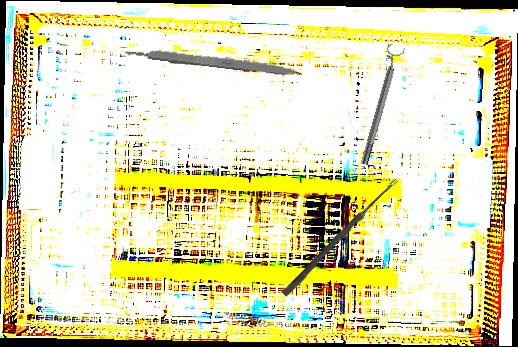Fixation Ring: (353, 43, 408, 167)
Scalpel Handle: (122, 44, 305, 78)
Surgical Spoon: (281, 176, 400, 298), (170, 61, 280, 66)
